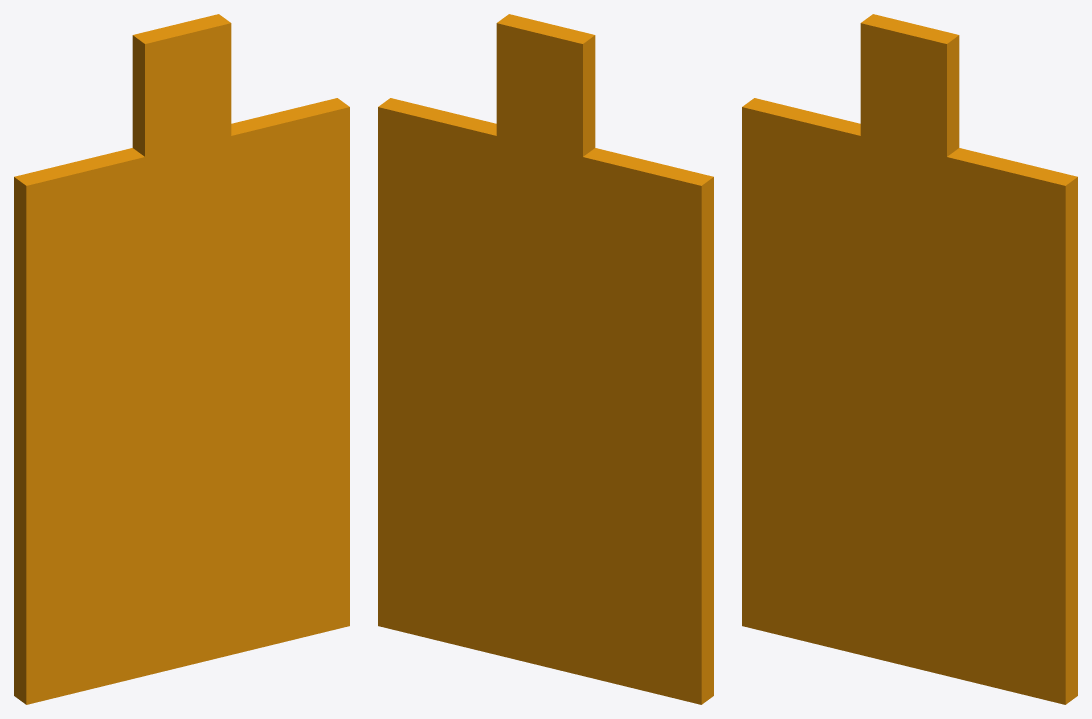
The model's file is outfit_apron.glb.
The picture shows the model from 3 angles, left to right: view 1: azimuth 30°, elevation 25°; view 2: azimuth 150°, elevation 25°; view 3: azimuth 330°, elevation 25°; orthographic projection.
Parts seen in each view (by area): view 1: apron_front, apron_strap; view 2: apron_front, apron_strap; view 3: apron_front, apron_strap.
Part boxes in pixels (x1,y1,x2,y2): apron_front: (14, 98, 349, 704); apron_strap: (132, 14, 231, 156); apron_front: (378, 98, 713, 704); apron_strap: (496, 14, 595, 156); apron_front: (742, 98, 1077, 704); apron_strap: (860, 14, 959, 156).
Size of the model in its own units: 0.3 by 0.56 by 0.02.
